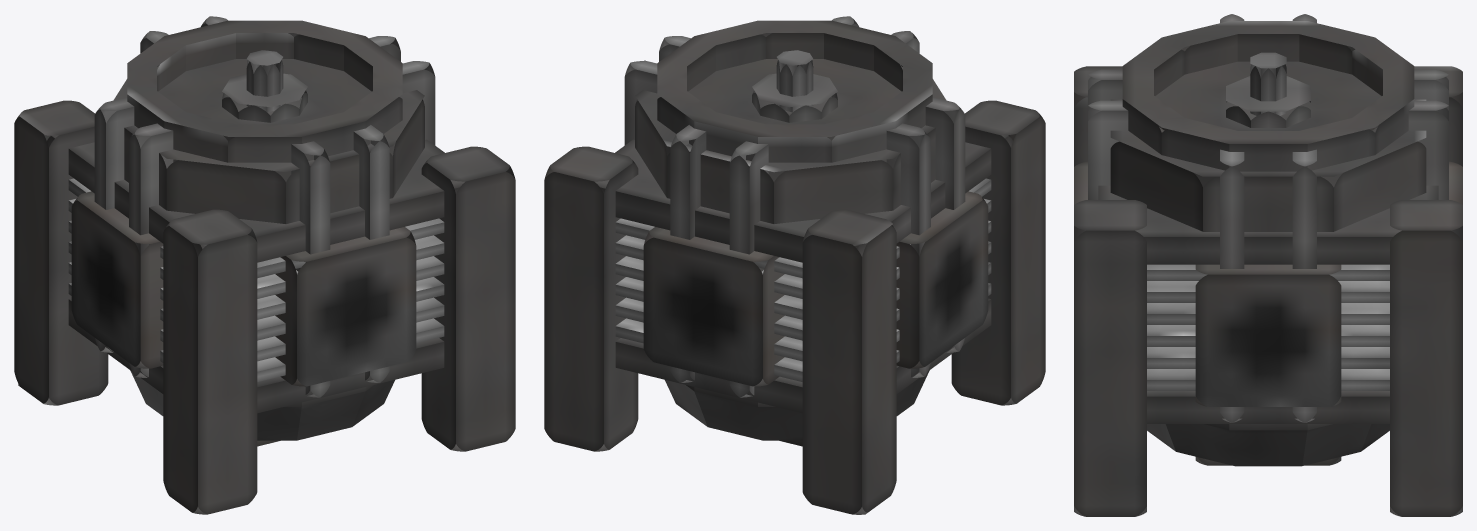
Rendered from centrifuge_motor.obj.
3 renders of one model, left to right at view 1: azimuth 30°, elevation 25°; view 2: azimuth 150°, elevation 25°; view 3: azimuth 270°, elevation 25°, orthographic. The views are drawn at different scales.
Parts seen in each view (by area): view 1: mesh; view 2: mesh; view 3: mesh.
Boxes of the visible parts, x1,y1,x2,y2 form: mesh: (14, 16, 515, 514); mesh: (544, 16, 1045, 514); mesh: (1074, 14, 1462, 516).
Bounding box in the file's own units: 1 × 1.06 × 1.
